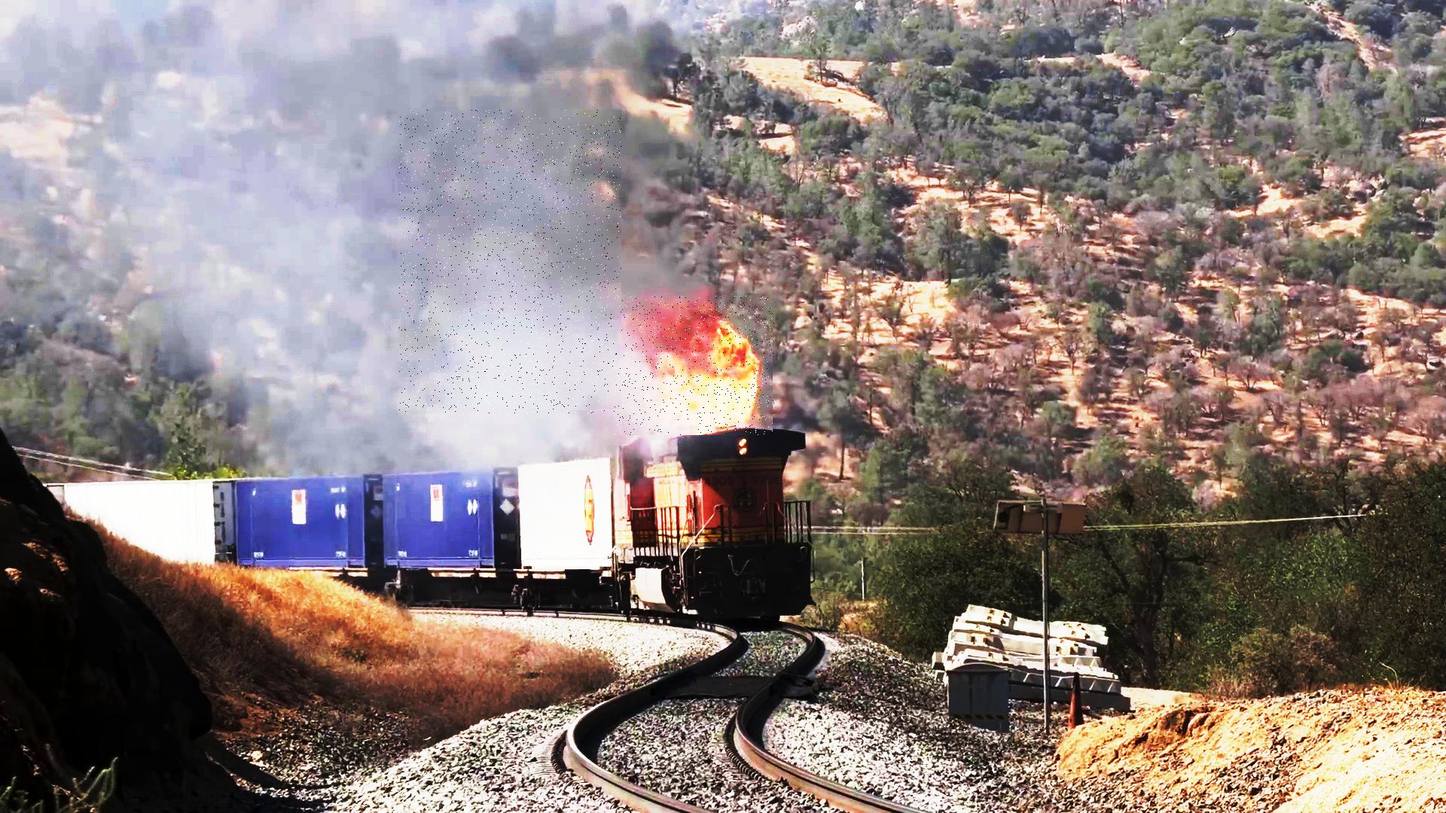fire: (614, 296, 775, 435)
smoke: (399, 110, 622, 414)
